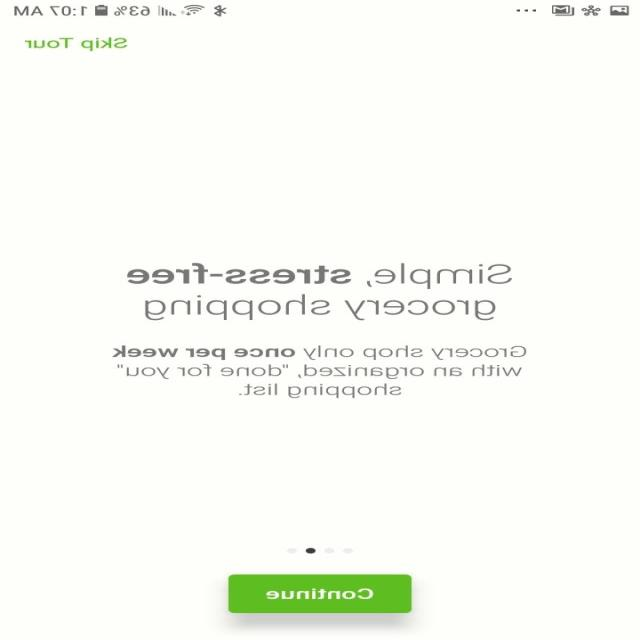Text: (126, 262, 513, 321), (112, 344, 527, 398), (25, 37, 128, 51)
TextButton: (228, 574, 412, 613)
